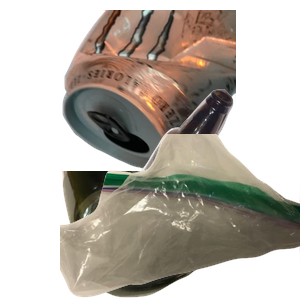glass: (130, 87, 300, 267)
metal: (60, 10, 300, 175)
plastic: (60, 171, 300, 300)
trash: (60, 134, 300, 300)
